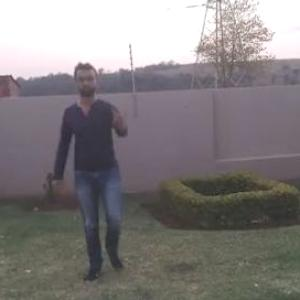takeoff-hand: (111, 94, 138, 129)
